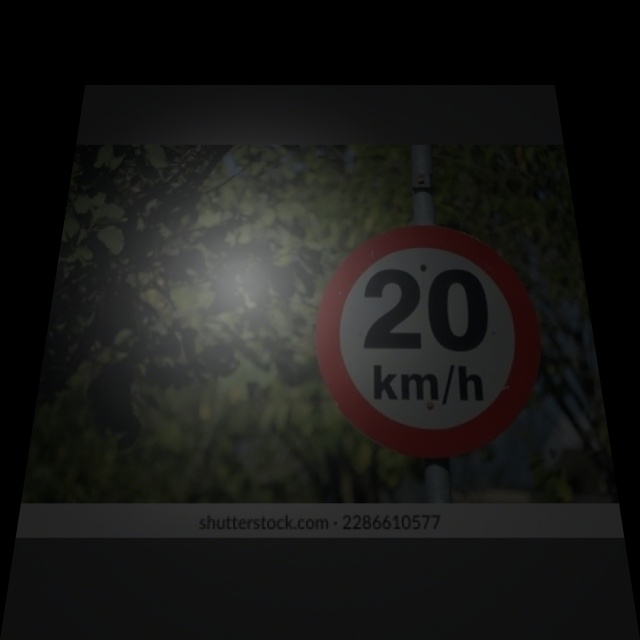Speed_Limit_20: (321, 228, 557, 459)
